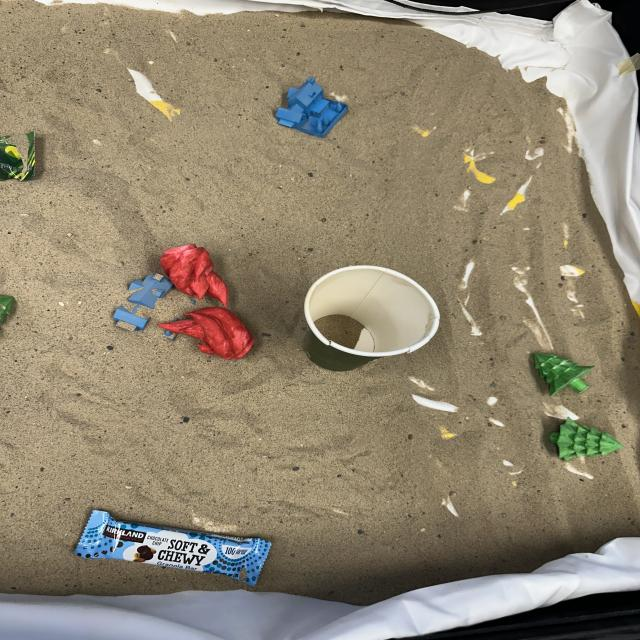fire: (159, 306, 256, 360), (158, 245, 230, 305)
house: (116, 275, 186, 340), (277, 78, 348, 134)
tree: (546, 418, 624, 462), (531, 352, 595, 397)
